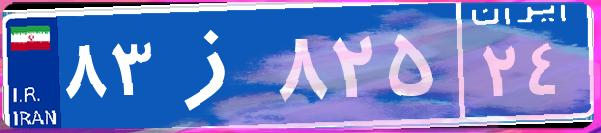2: (330, 28, 385, 110), (475, 38, 525, 113)
3: (110, 28, 158, 105)
4: (525, 38, 570, 115)
5: (385, 28, 445, 110)
8: (273, 28, 330, 110), (57, 26, 110, 107)
ز: (158, 15, 273, 115)
